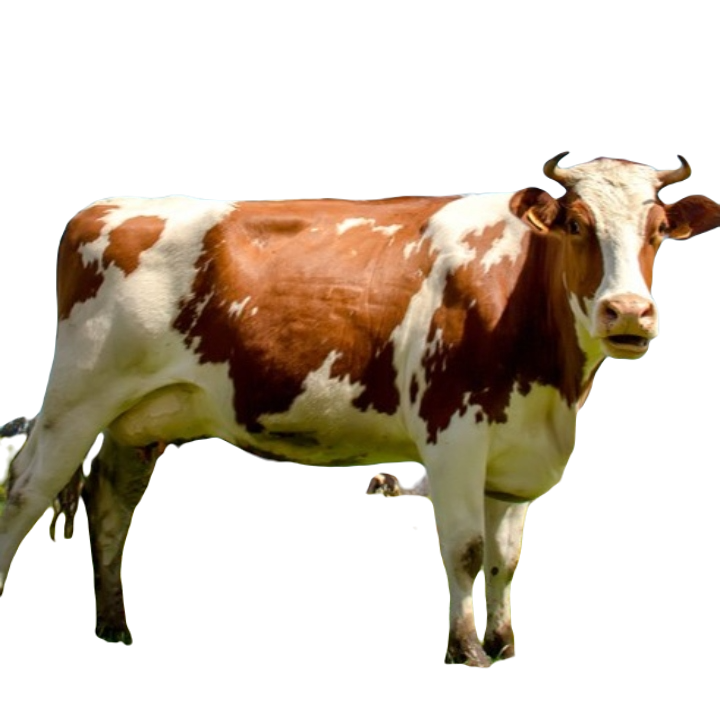Cow: (5, 148, 719, 668)
